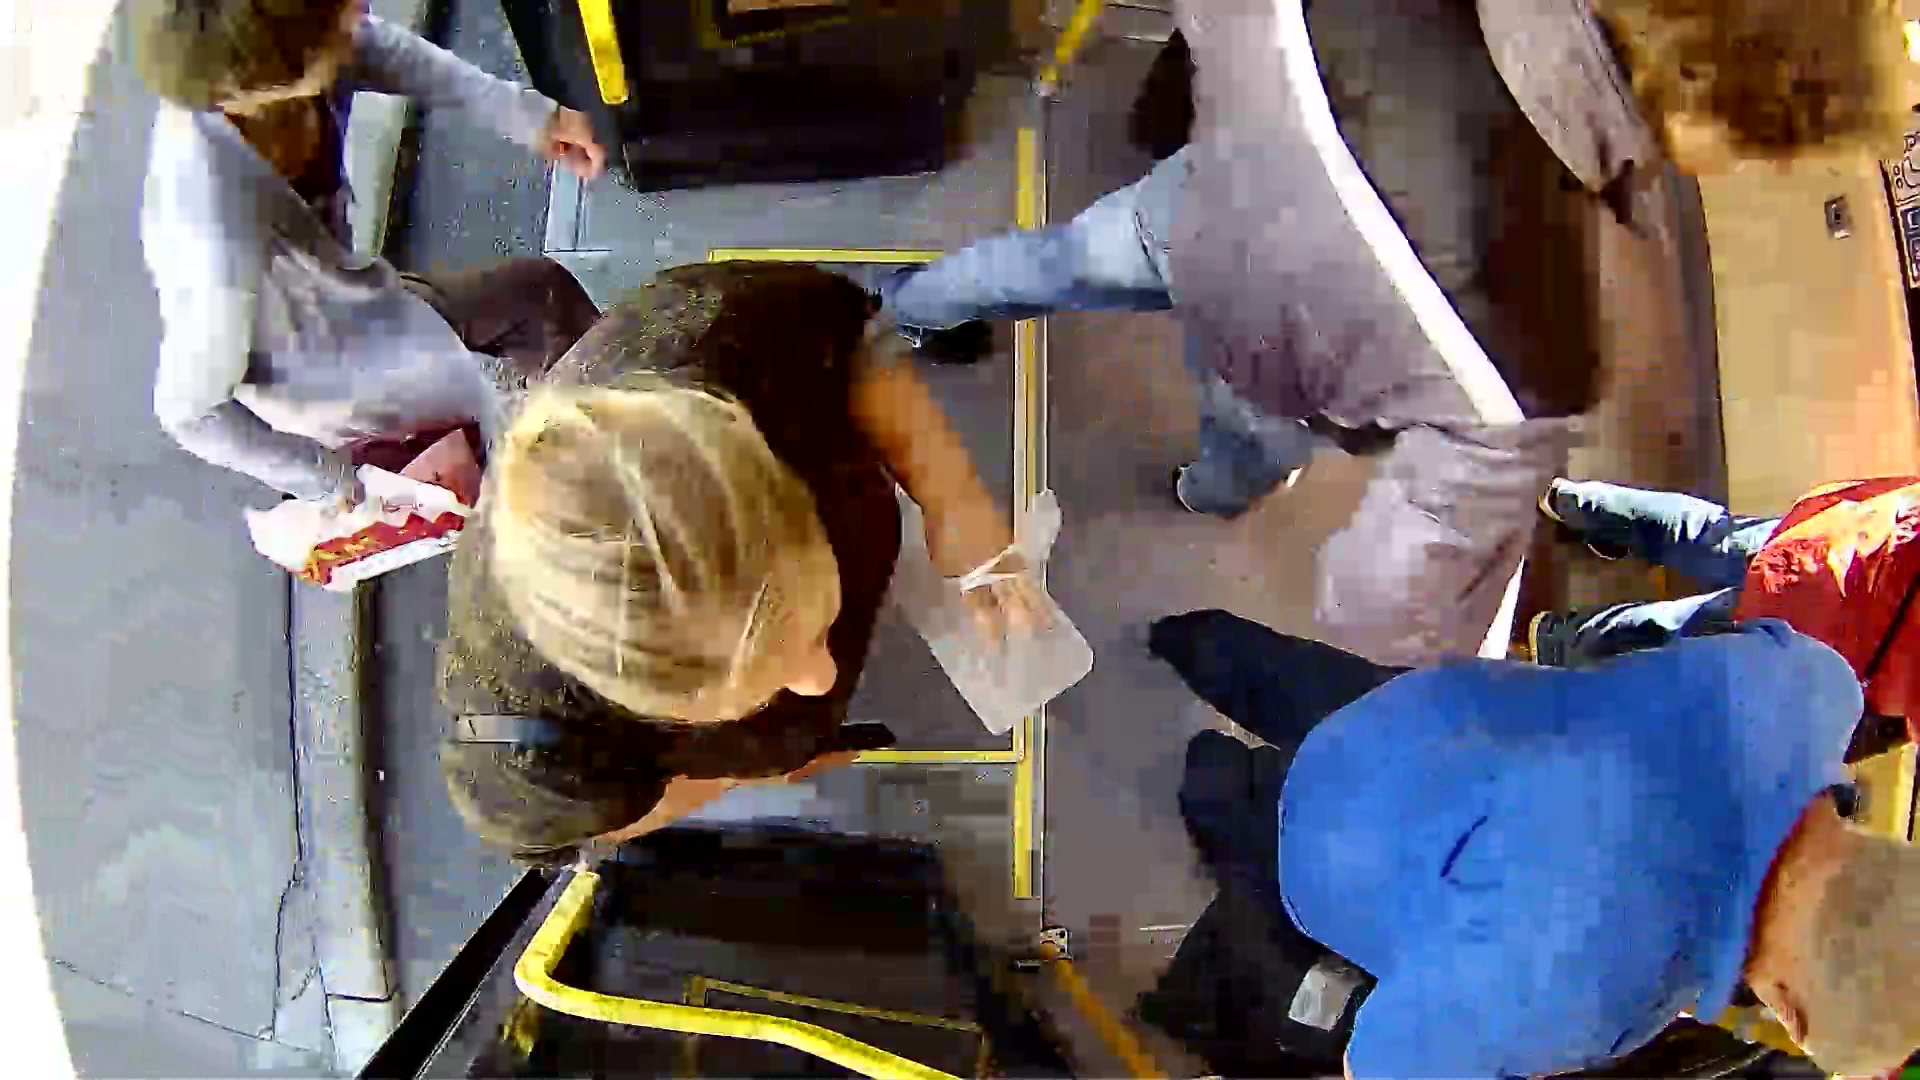person: (379, 250, 1187, 846), (92, 17, 737, 513)
